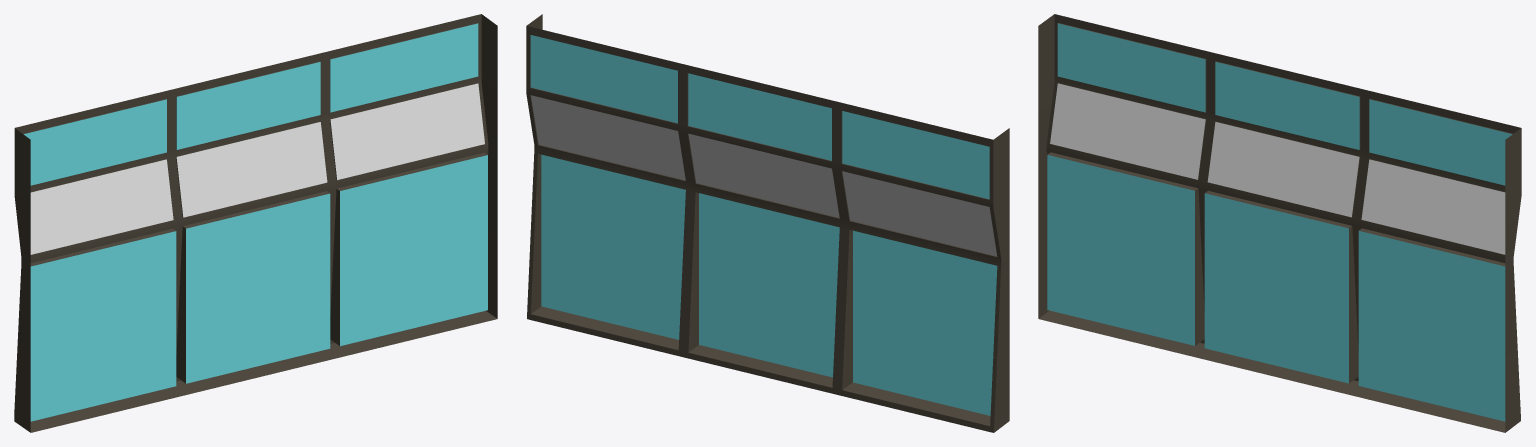
Rendered from P_F_OLDType2SansBF.fbx.
The picture shows the model from 3 angles, left to right: view 1: azimuth 30°, elevation 25°; view 2: azimuth 150°, elevation 25°; view 3: azimuth 330°, elevation 25°; orthographic projection.
Visible parts, largest first — view 1: P_F_OLDType2SansBF; view 2: P_F_OLDType2SansBF; view 3: P_F_OLDType2SansBF.
Boxes of the visible parts, left/top/right/bottom form: P_F_OLDType2SansBF: left=14, top=14, right=497, bottom=432; P_F_OLDType2SansBF: left=526, top=14, right=1009, bottom=432; P_F_OLDType2SansBF: left=1038, top=14, right=1521, bottom=432.
Bounding box in the file's own units: 501 × 300 × 30.03.
